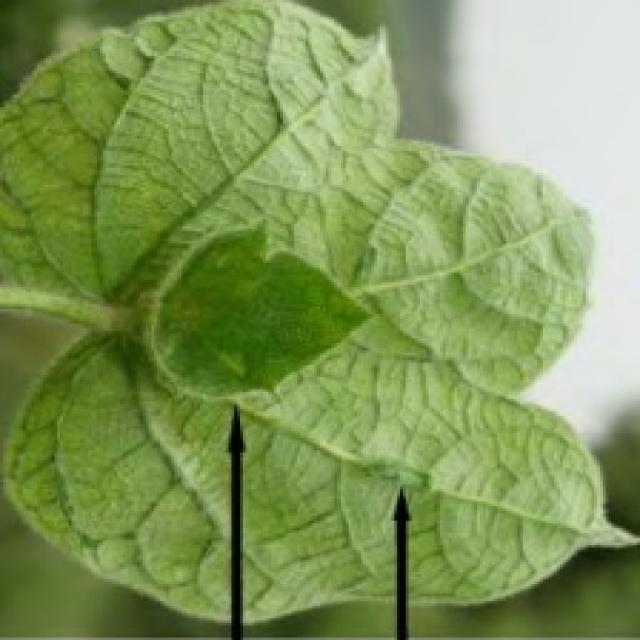Leaf Curl Virus: (58, 100, 487, 533)
